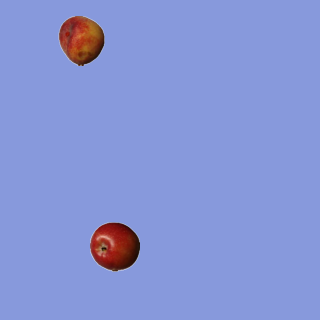Apple Braeburn: (89, 221, 139, 271)
Peach: (56, 15, 106, 65)
